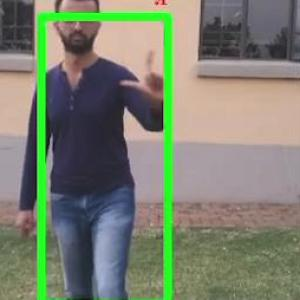land_hand: (113, 45, 174, 113)
